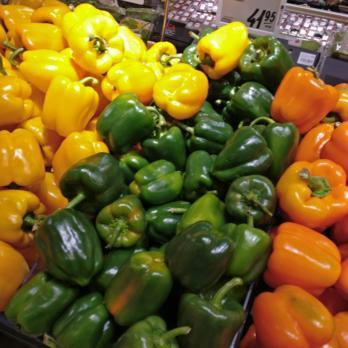Capsicum: (136, 21, 284, 348), (0, 0, 134, 348), (282, 66, 348, 348)
